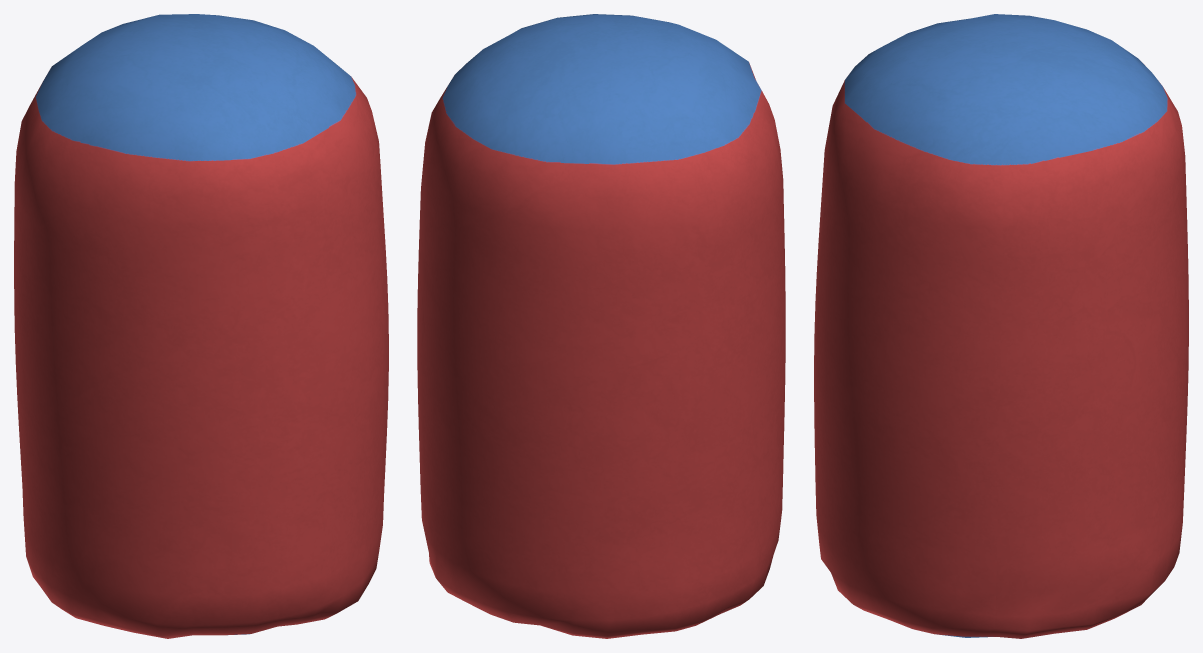
File: Can_M.fbx
The picture shows the model from 3 angles, left to right: view 1: azimuth 30°, elevation 25°; view 2: azimuth 150°, elevation 25°; view 3: azimuth 270°, elevation 25°; orthographic projection.
Parts seen in each view (by area): view 1: Can_M; view 2: Can_M; view 3: Can_M.
Part boxes in pixels (bbox=[...]): Can_M: bbox=[14, 14, 388, 638]; Can_M: bbox=[417, 14, 785, 638]; Can_M: bbox=[814, 14, 1188, 638].
Size of the model in its own units: 126 by 200 by 128.
